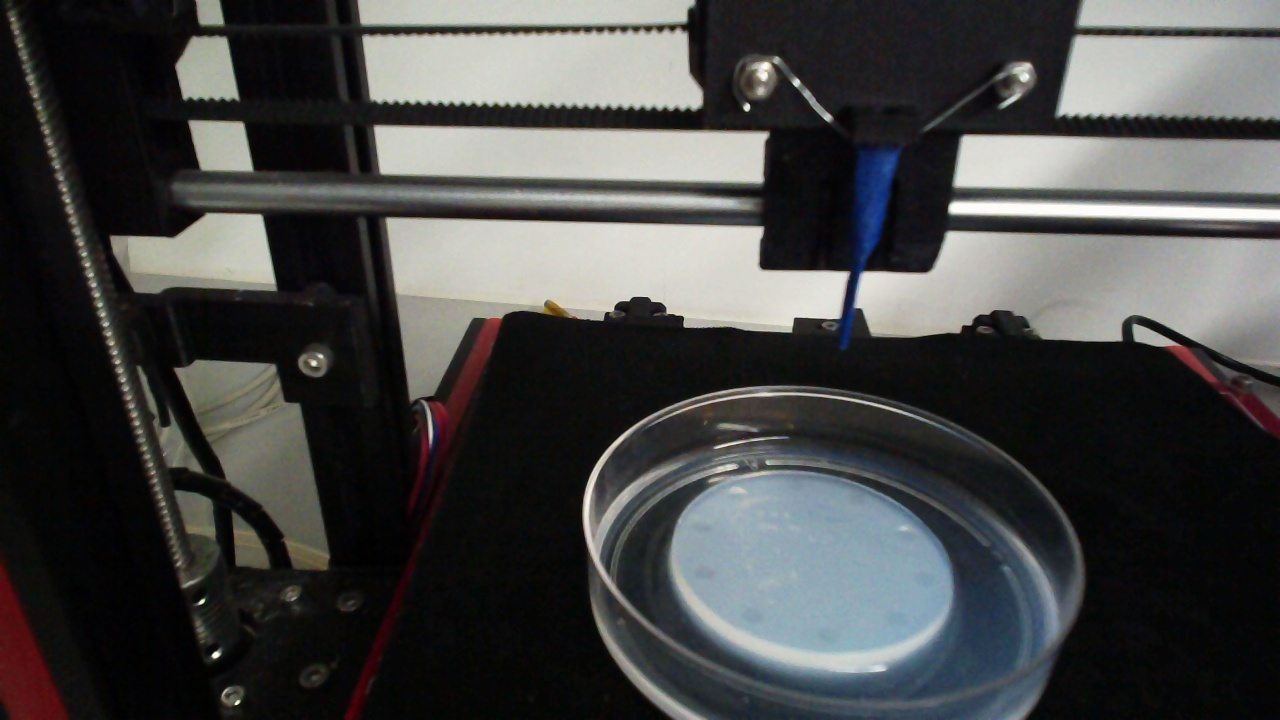groove: (886, 609, 910, 631), (910, 567, 934, 588), (895, 526, 920, 544), (742, 606, 765, 625), (689, 562, 714, 579), (817, 627, 842, 644), (726, 485, 750, 502), (689, 517, 712, 534), (783, 476, 807, 492), (844, 492, 869, 507)
needle: (836, 148, 899, 354)
